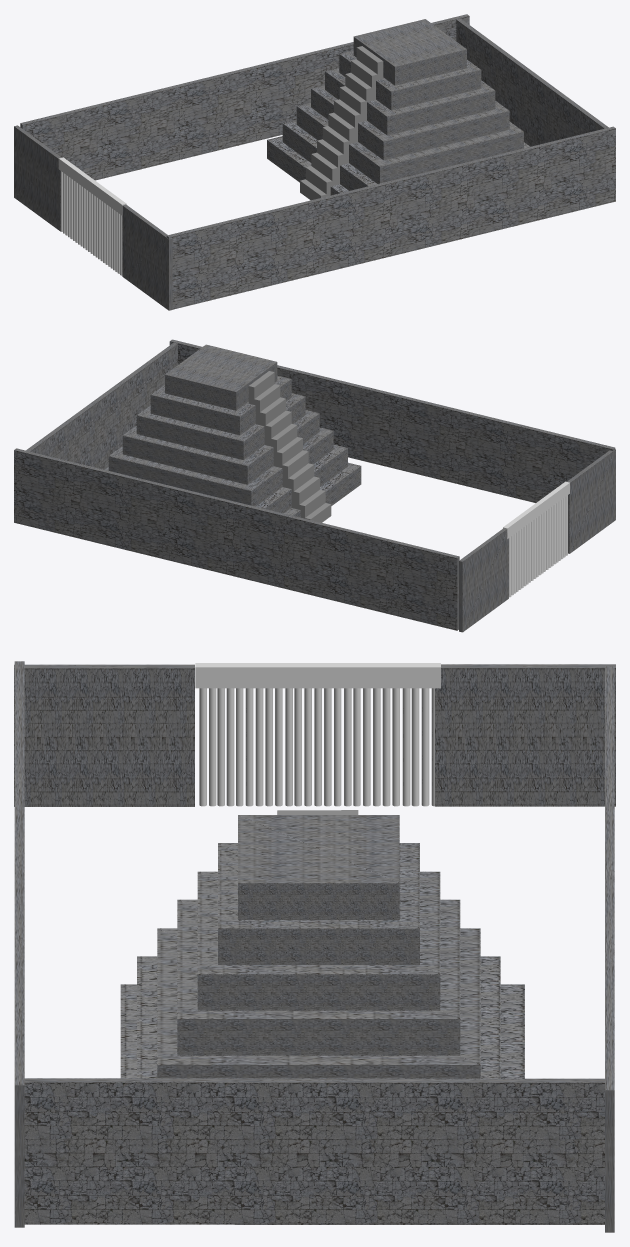
Rendered from TemplewGate.FBX.
3 views of the same model, one above another, from view 1: azimuth 30°, elevation 25°; view 2: azimuth 150°, elevation 25°; view 3: azimuth 270°, elevation 25° (orthographic). The views are drawn at different scales.
Visible parts, largest first — view 1: Box014, Box008, Box015, StraightStair001, Box003, Box007, Box004, Box012, Box005, Box011, Box006, Box002 (+2 smaller); view 2: Box008, Box014, Box015, StraightStair001, Box007, Box003, Box004, Box011, Box005, Box012, Box006, Box002 (+2 smaller); view 3: Box015, Box012, Box011, Box004, Box007, Box005, Box003, Box006, Box013, Box014, Box008, Box002 (+25 smaller).
Boxes of the visible parts, box(x1,y1,x2,y2) form: Box014: box(166, 126, 615, 309); Box008: box(20, 14, 469, 180); Box015: box(456, 18, 608, 146); StraightStair001: box(300, 46, 383, 200); Box003: box(296, 102, 523, 183); Box007: box(353, 19, 466, 85); Box004: box(311, 85, 509, 160); Box012: box(122, 204, 172, 310); Box005: box(325, 68, 495, 135); Box011: box(14, 125, 61, 231); Box006: box(339, 50, 481, 110); Box002: box(282, 120, 530, 190); Box008: box(14, 448, 459, 630); Box014: box(169, 339, 615, 502); Box015: box(26, 342, 177, 469); StraightStair001: box(248, 371, 331, 522); Box007: box(165, 344, 277, 410); Box003: box(108, 427, 333, 506); Box004: box(122, 410, 319, 484); Box011: box(459, 528, 508, 632); Box005: box(136, 393, 305, 460); Box012: box(567, 449, 615, 553); Box006: box(150, 375, 291, 435); Box002: box(104, 444, 347, 513); Box015: box(24, 1078, 604, 1224); Box012: box(14, 664, 194, 806); Box011: box(435, 664, 615, 806); Box004: box(177, 899, 460, 1055); Box007: box(238, 815, 399, 919); Box005: box(197, 871, 440, 1010); Box003: box(157, 928, 480, 1078); Box006: box(218, 843, 419, 964); Box013: box(195, 663, 440, 688); Box014: box(14, 661, 24, 1227); Box008: box(605, 666, 614, 1232); Box002: box(137, 956, 500, 1078).
Size of the model in its own units: 252 by 70.51 by 149.
2 materials, 1 textured.
